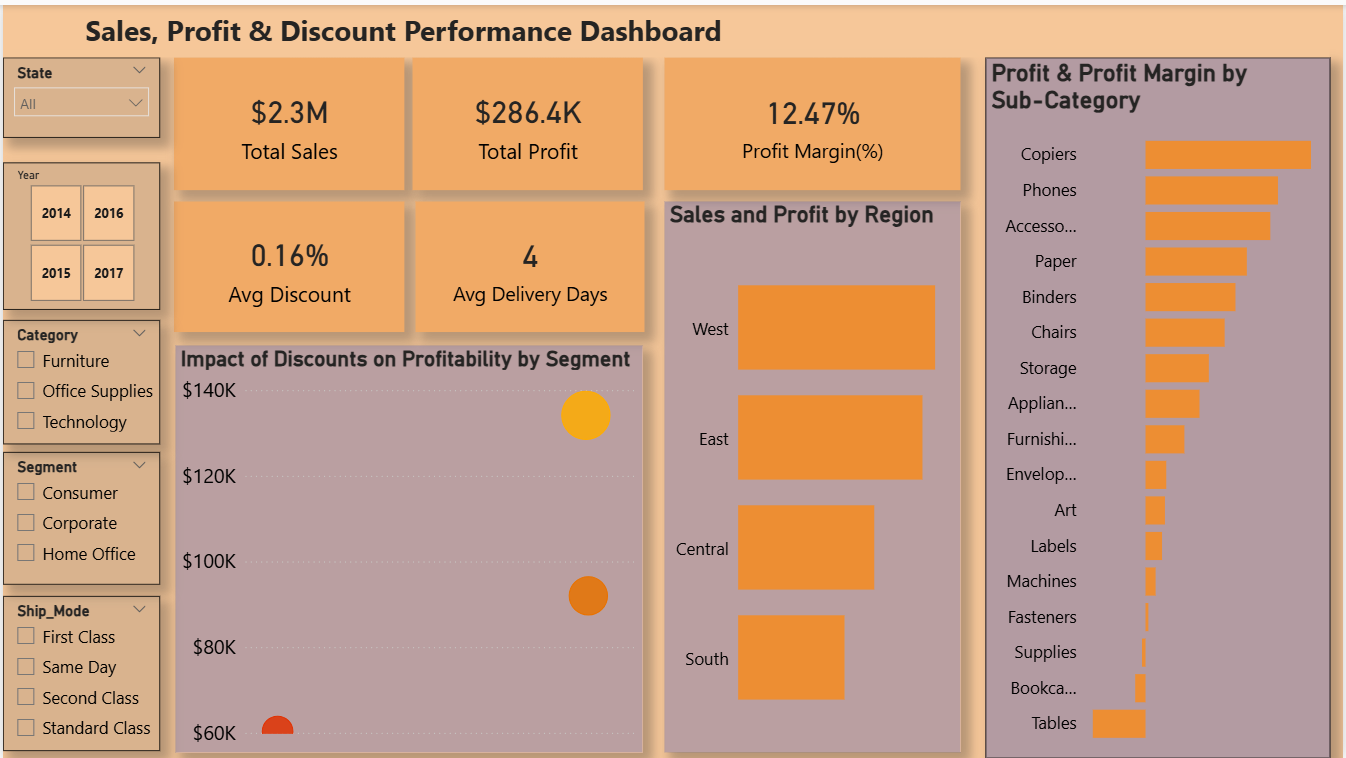

Layout of this report page (visuals, bound fields, positions):
{"tool":"powerbi","page":{"name":"DASHBOARD","canvas":[1280,720],"ordinal":0},"visuals":[{"type":"card","fields":{"Values":["Superstore_Cleaned.Total Sales"]},"box":[163.8,49.9,220,126.4],"z":0},{"type":"card","fields":{"Values":["Superstore_Cleaned.Total Profit"]},"box":[391.6,49.9,220,126.4],"z":1000},{"type":"card","fields":{"Values":["Superstore_Cleaned.Profit Margin(%)"]},"box":[631.9,49.9,282.4,126.4],"z":2000},{"type":"card","fields":{"Values":["Superstore_Cleaned.Avg Discount"]},"box":[163.8,187.2,220,124.8],"z":3000},{"type":"card","fields":{"Values":["Superstore_Cleaned.Avg Delivery Days"]},"box":[393.2,187.2,218.4,124.8],"z":4000},{"type":"slicer","fields":{"Values":["Superstore_Cleaned.State"]},"box":[0,49.9,149.8,76.5],"z":5000},{"type":"slicer","fields":{"Values":["Superstore_Cleaned.Category"]},"box":[0,301.1,149.8,118.6],"z":6000},{"type":"slicer","fields":{"Values":["Superstore_Cleaned.Segment"]},"box":[0,427.5,149.8,126.4],"z":7000},{"type":"slicer","fields":{"Values":["Superstore_Cleaned.Ship_Mode"]},"box":[0,564.8,149.8,148.2],"z":8000},{"type":"clusteredBarChart","title":" Sales and Profit by Region","fields":{"Category":["Superstore_Cleaned.Region"],"Y":["Superstore_Cleaned.Total Sales"]},"box":[631.9,187.2,282.4,525.8],"z":9000},{"type":"clusteredBarChart","title":" Profit & Profit Margin by Sub-Category","fields":{"Category":["Superstore_Cleaned.Sub-Category"],"Y":["Superstore_Cleaned.Total Profit"]},"box":[937.7,50.2,329.3,669.5],"z":10000},{"type":"scatterChart","title":"Impact of Discounts on Profitability by Segment","fields":{"Y":["Superstore_Cleaned.Total Profit"],"Series":["Superstore_Cleaned.Segment"],"X":["Superstore_Cleaned.Avg Discount"],"Size":["Superstore_Cleaned.Total Sales"]},"box":[165.4,324.6,446.3,388.5],"z":11000},{"type":"slicer","fields":{"Values":["Superstore_Cleaned.Year"]},"box":[0,149.8,149.8,140.4],"z":12000},{"type":"textbox","box":[0,0,1266.9,50.2],"z":13000}]}

Visuals, with their boxes in screenshot pixels (x1, y1, x2, y2), scaled from the page's 1280x720 canvas onto the 1346x758 screenshot:
card - Superstore_Cleaned.Total Sales: BBox(172, 53, 404, 186)
card - Superstore_Cleaned.Total Profit: BBox(412, 53, 643, 186)
card - Superstore_Cleaned.Profit Margin(%): BBox(664, 53, 961, 186)
card - Superstore_Cleaned.Avg Discount: BBox(172, 197, 404, 328)
card - Superstore_Cleaned.Avg Delivery Days: BBox(413, 197, 643, 328)
slicer - Superstore_Cleaned.State: BBox(0, 53, 158, 133)
slicer - Superstore_Cleaned.Category: BBox(0, 317, 158, 442)
slicer - Superstore_Cleaned.Segment: BBox(0, 450, 158, 583)
slicer - Superstore_Cleaned.Ship_Mode: BBox(0, 595, 158, 751)
" Sales and Profit by Region" clusteredBarChart: BBox(664, 197, 961, 751)
" Profit & Profit Margin by Sub-Category" clusteredBarChart: BBox(986, 53, 1332, 757)
"Impact of Discounts on Profitability by Segment" scatterChart: BBox(174, 342, 643, 751)
slicer - Superstore_Cleaned.Year: BBox(0, 158, 158, 306)
textbox: BBox(0, 0, 1332, 53)
